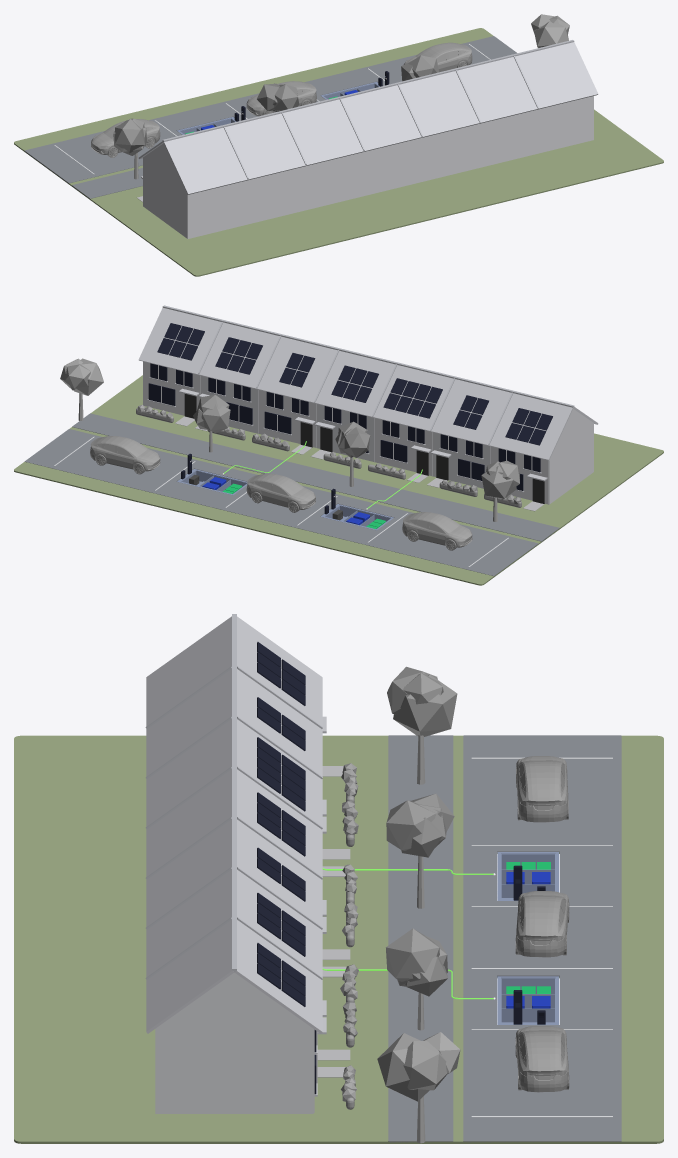
File: sett-hero-gemeenten.glb
The picture shows the model from 3 angles, top to bottom: view 1: azimuth 30°, elevation 25°; view 2: azimuth 150°, elevation 25°; view 3: azimuth 270°, elevation 25°; orthographic projection. The views are drawn at different scales.
Parts seen in each view (by area): view 1: house, hero-gemeenten, car (×3), tree_0, tree_3, tree_1, tree_2; view 2: house, hero-gemeenten, car (×3), tree_0, tree_3, tree_2, tree_1, BAK_met_RIBS (×2); view 3: hero-gemeenten, house, car (×3), tree_3, tree_0, tree_1, tree_2, BAK_met_RIBS (×2).
Boxes of the visible parts, x1,y1,x2,y2 form: house: (137, 40, 598, 238); hero-gemeenten: (14, 28, 663, 276); car (×3): (91, 42, 472, 157); tree_0: (113, 118, 146, 179); tree_3: (531, 14, 569, 47); tree_1: (257, 83, 299, 111); tree_2: (401, 55, 438, 81); house: (136, 305, 598, 511); hero-gemeenten: (14, 375, 663, 585); car (×3): (90, 436, 472, 550); tree_0: (481, 460, 519, 521); tree_3: (60, 358, 103, 420); tree_2: (193, 395, 230, 452); tree_1: (335, 421, 370, 486); BAK_met_RIBS (×2): (178, 469, 393, 529); hero-gemeenten: (14, 735, 663, 1143); house: (145, 614, 358, 1113); car (×3): (515, 756, 569, 1092); tree_3: (377, 1032, 460, 1143); tree_0: (387, 666, 457, 784); tree_1: (386, 793, 454, 908); tree_2: (386, 928, 447, 1030); BAK_met_RIBS (×2): (497, 852, 556, 1024).
Bounding box in the file's own units: 3522 × 648 × 2300.
